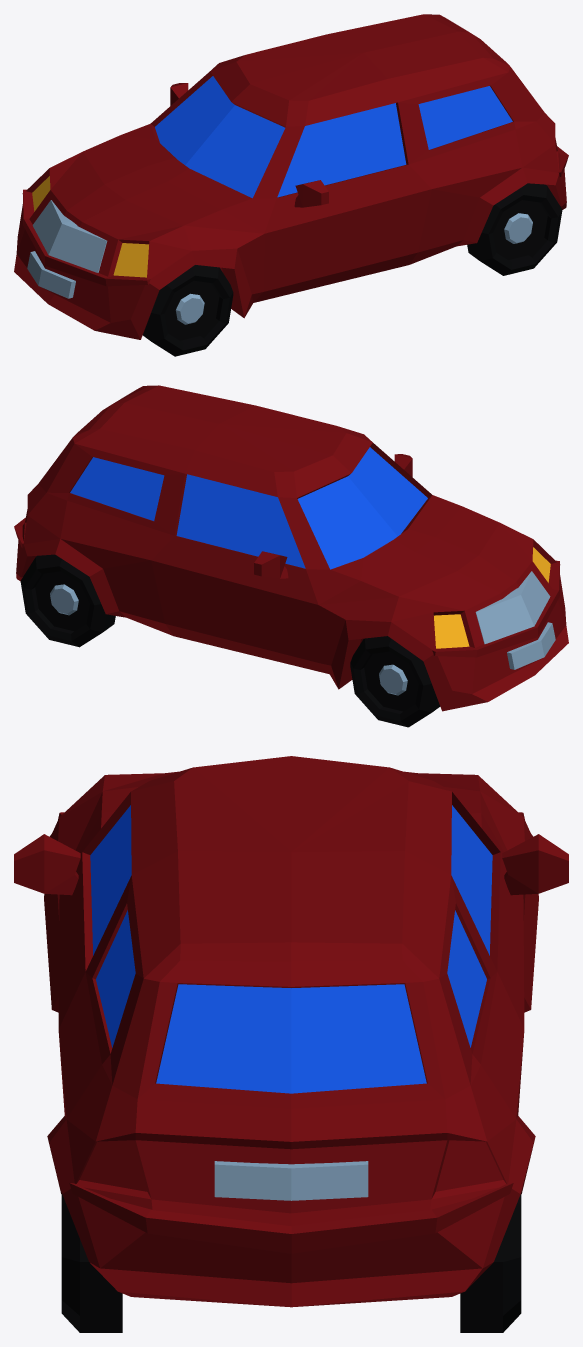
File: Car.fbx
The picture shows the model from 3 angles, top to bottom: view 1: azimuth 30°, elevation 25°; view 2: azimuth 150°, elevation 25°; view 3: azimuth 270°, elevation 25°; orthographic projection. The views are drawn at different scales.
Parts seen in each view (by area): view 1: Car 016; view 2: Car 016; view 3: Car 016.
Boxes of the visible parts, x1=… form: Car 016: x1=14, y1=14, x2=568, y2=356; Car 016: x1=14, y1=385, x2=568, y2=727; Car 016: x1=14, y1=756, x2=568, y2=1332.
Bounding box in the file's own units: 831 × 322 × 429.
